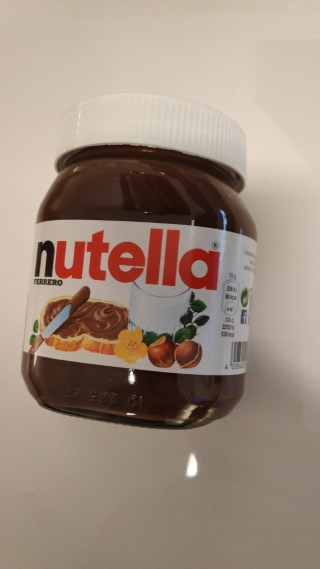nutella: (18, 88, 260, 432)
